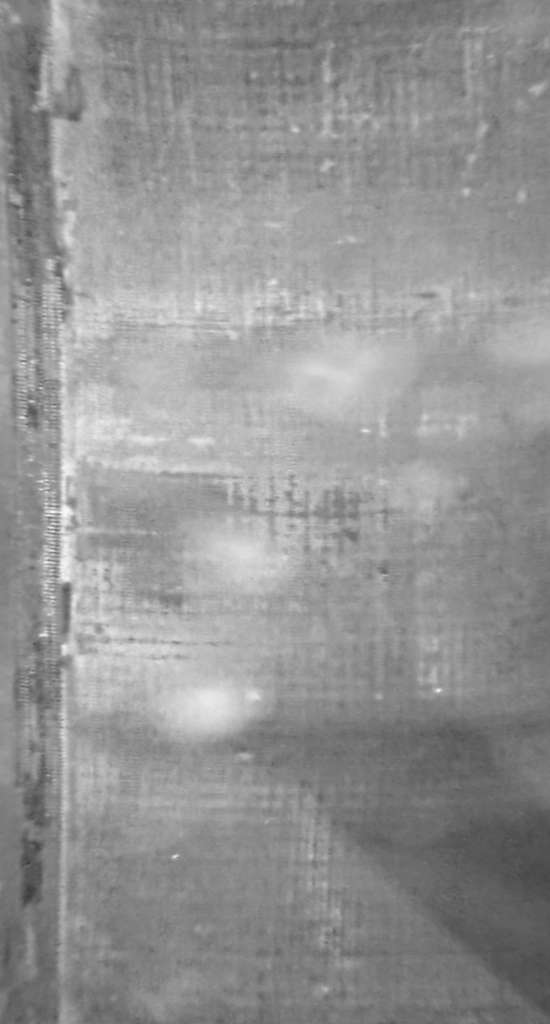splice: (9, 3, 67, 1024)
